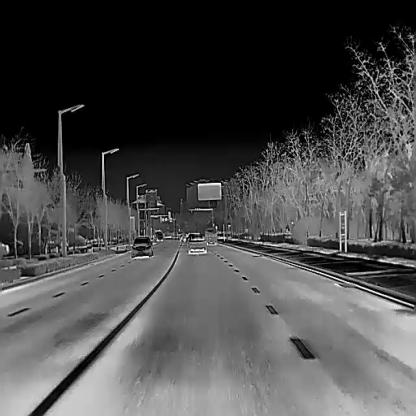car: (186, 230, 206, 254), (130, 236, 152, 256), (155, 230, 163, 241)
truck: (205, 225, 216, 243)
